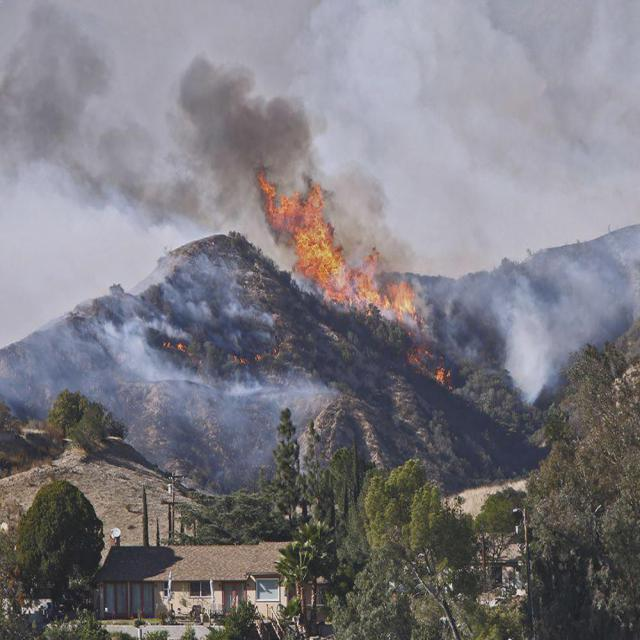Fire: (264, 172, 428, 314), (406, 343, 429, 364), (434, 366, 444, 384), (176, 340, 186, 355)
